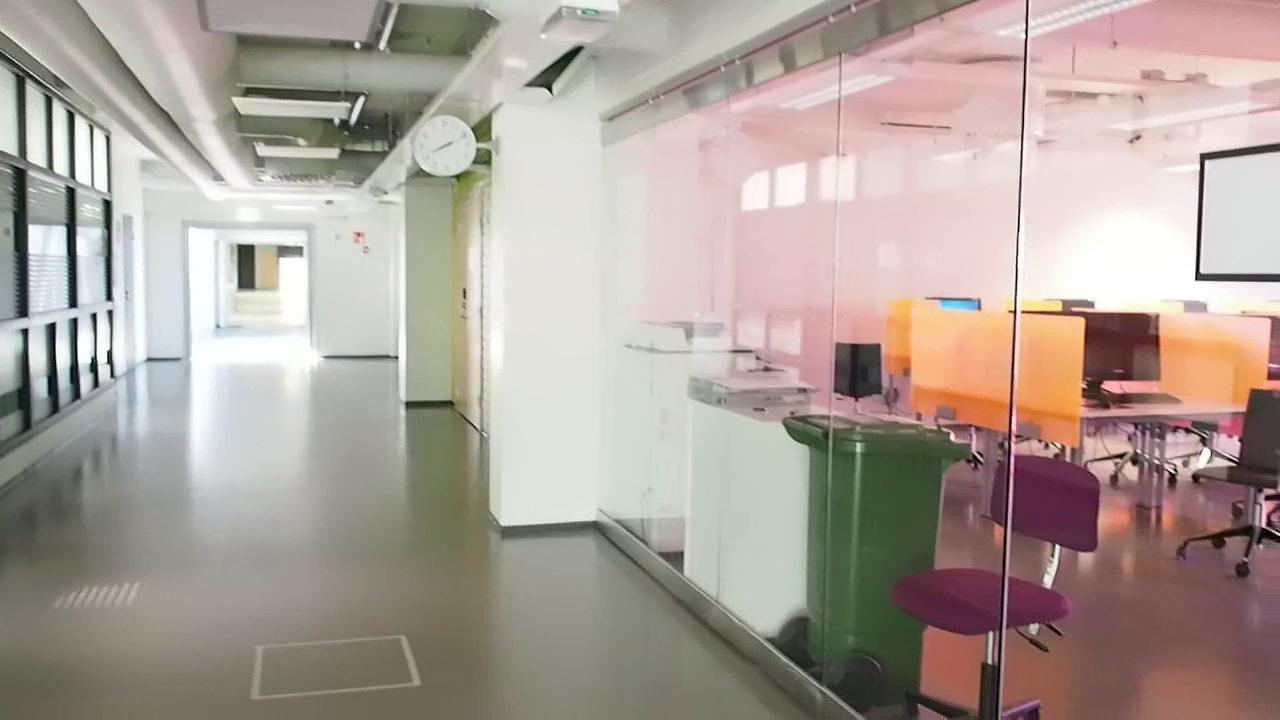chair: (898, 451, 1082, 694)
trashbin: (795, 408, 951, 675)
